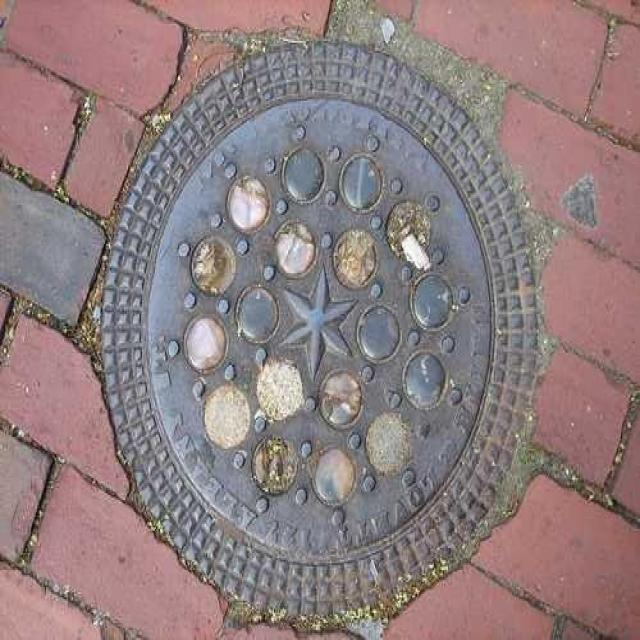manhole: (101, 42, 536, 625)
